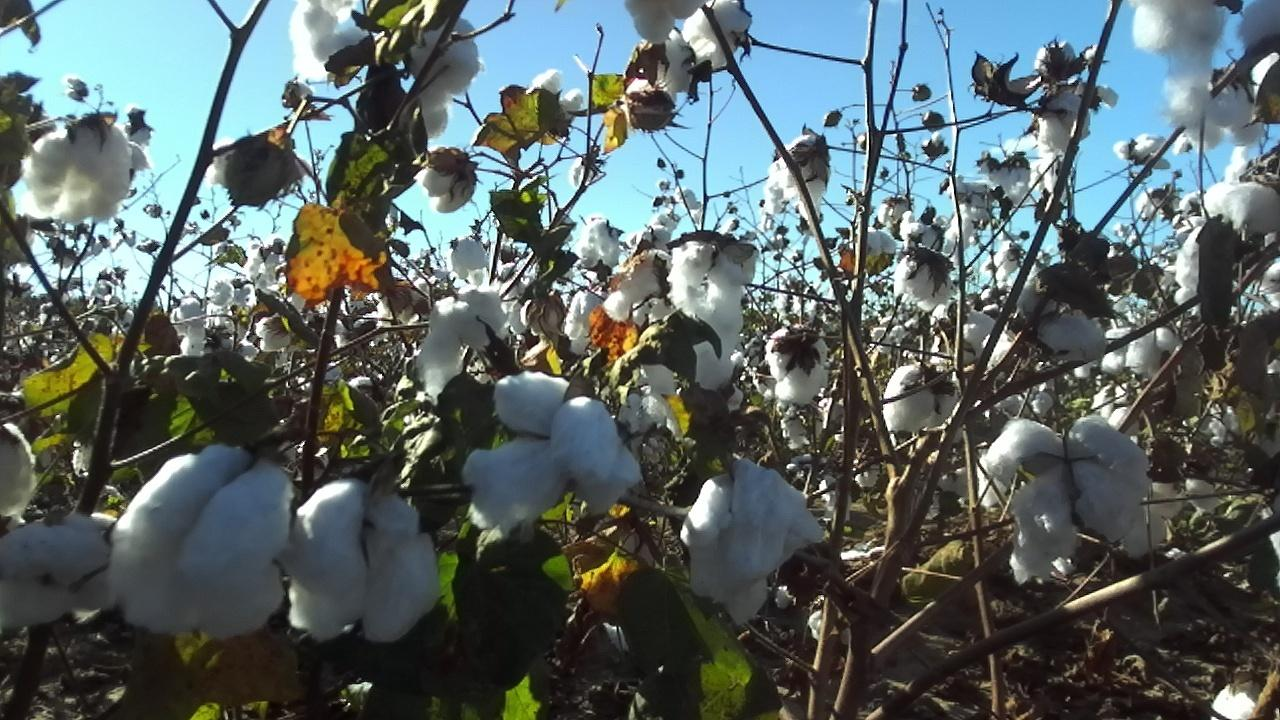cotton_ready: (112, 442, 292, 644), (986, 412, 1155, 585), (467, 372, 639, 530), (677, 457, 832, 623), (285, 479, 437, 638), (666, 239, 759, 386), (0, 514, 115, 630), (16, 117, 132, 225), (421, 285, 507, 402), (1129, 0, 1225, 89), (409, 22, 482, 137), (1166, 74, 1265, 147), (204, 139, 304, 209), (1012, 290, 1110, 360), (1148, 439, 1225, 525), (288, 0, 364, 80), (1040, 77, 1117, 155), (885, 357, 964, 431), (929, 297, 1005, 370), (620, 362, 684, 446), (604, 250, 672, 329), (764, 327, 832, 405), (686, 0, 754, 73), (777, 135, 827, 225), (632, 29, 690, 102), (1201, 179, 1280, 227), (1101, 325, 1179, 373), (894, 254, 957, 311), (420, 157, 477, 217), (625, 0, 702, 44), (1173, 224, 1209, 318), (0, 422, 35, 518), (559, 285, 602, 359), (529, 67, 585, 122), (1234, 0, 1280, 54), (576, 219, 624, 270), (1213, 684, 1280, 720), (1249, 50, 1280, 106)
